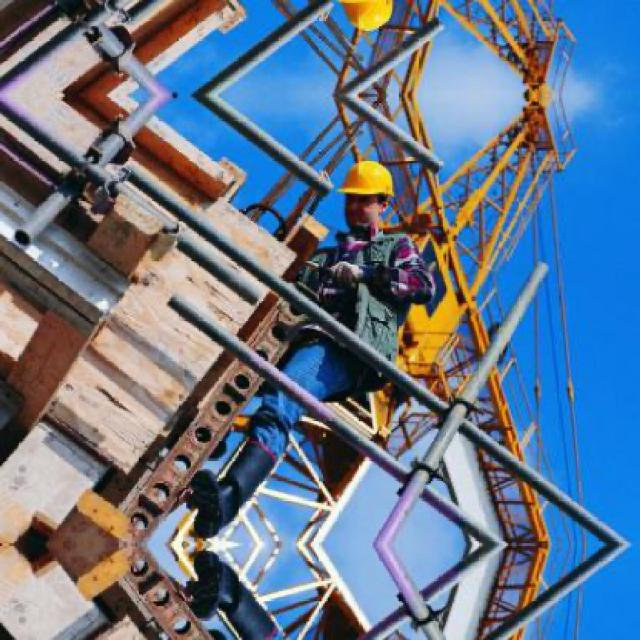helmet: (338, 152, 398, 228), (338, 0, 400, 37)
